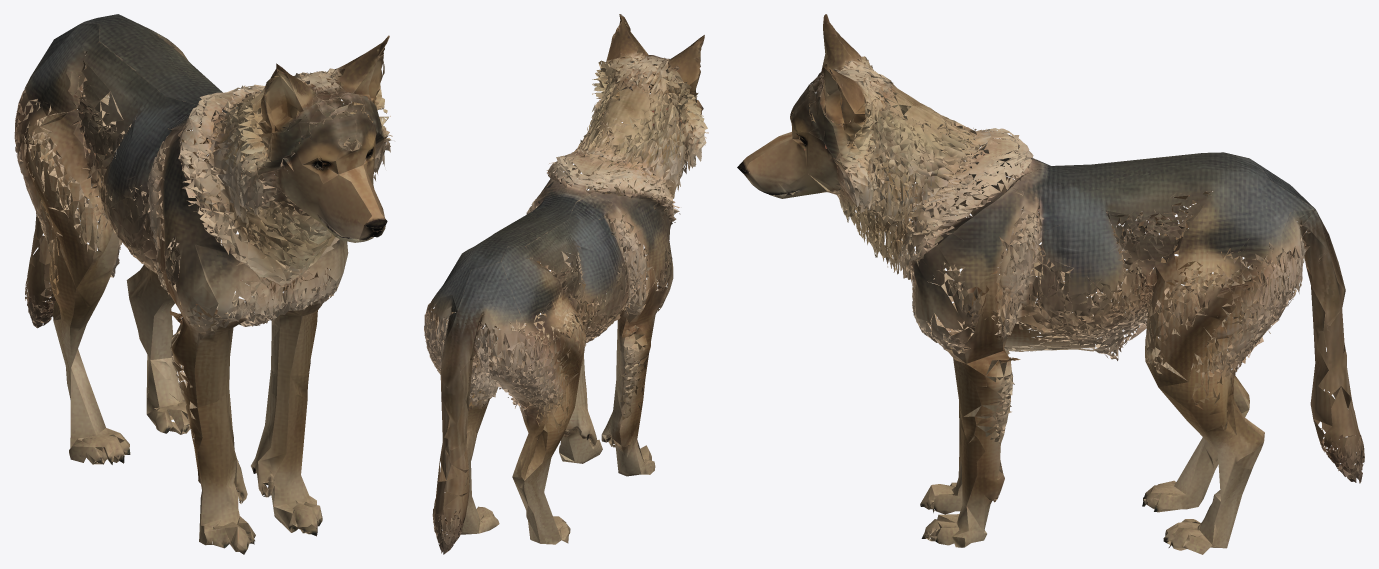
3 views of the same model, side by side, from view 1: azimuth 30°, elevation 25°; view 2: azimuth 150°, elevation 25°; view 3: azimuth 270°, elevation 25° (orthographic). The views are drawn at different scales.
Parts seen in each view (by area): view 1: world; view 2: world; view 3: world.
Boxes of the visible parts, x1,y1,x2,y2 form: world: (14, 14, 392, 554); world: (424, 14, 708, 554); world: (737, 14, 1364, 554).
Bounding box in the file's own units: 0.3028 × 0.8545 × 0.9995.
Materials: 1 (1 with a texture image).
